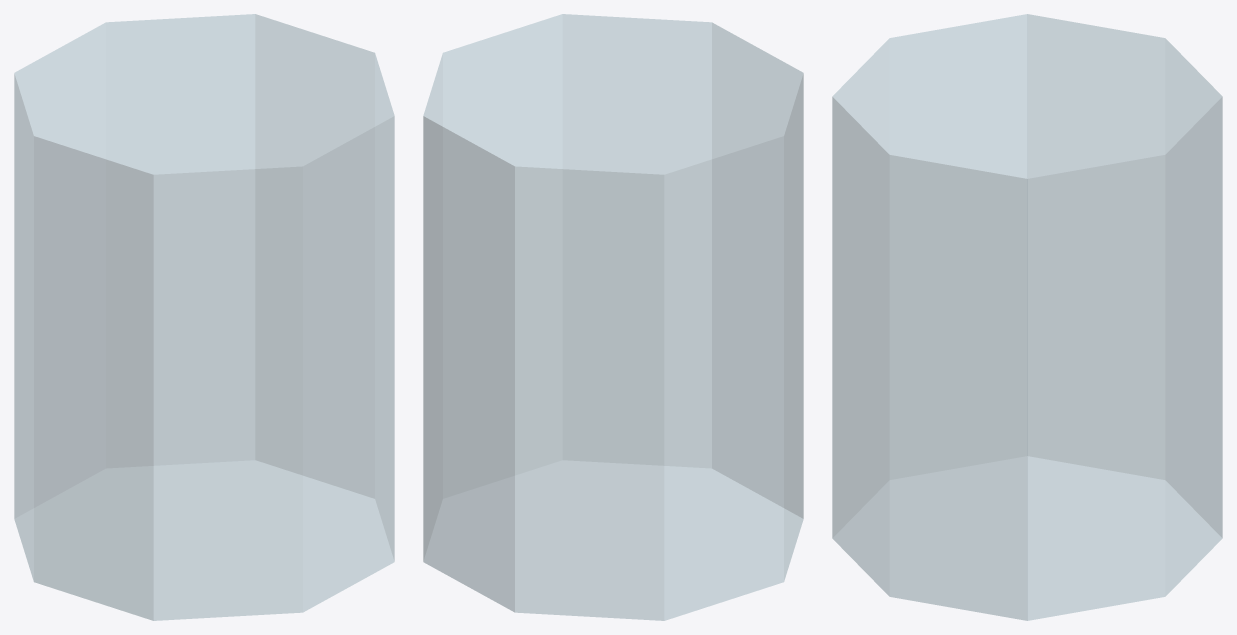
Rendered from dentureGlass.fbx.
3 views of the same model, side by side, from view 1: azimuth 30°, elevation 25°; view 2: azimuth 150°, elevation 25°; view 3: azimuth 270°, elevation 25° (orthographic).
Visible parts, largest first — view 1: dentureGlass; view 2: dentureGlass; view 3: dentureGlass.
Boxes of the visible parts, <box> form: dentureGlass: <box>14,14,394,620</box>; dentureGlass: <box>423,14,803,620</box>; dentureGlass: <box>832,14,1222,620</box>.
Size of the model in its own units: 0.32 by 0.4 by 0.32.
